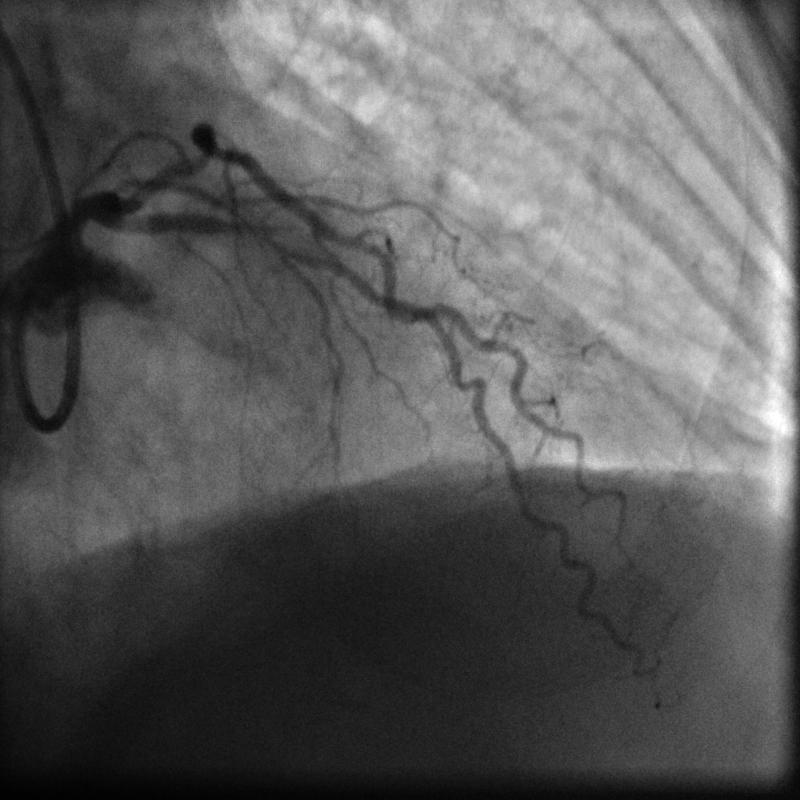Stenosis: (236, 214, 304, 267)
